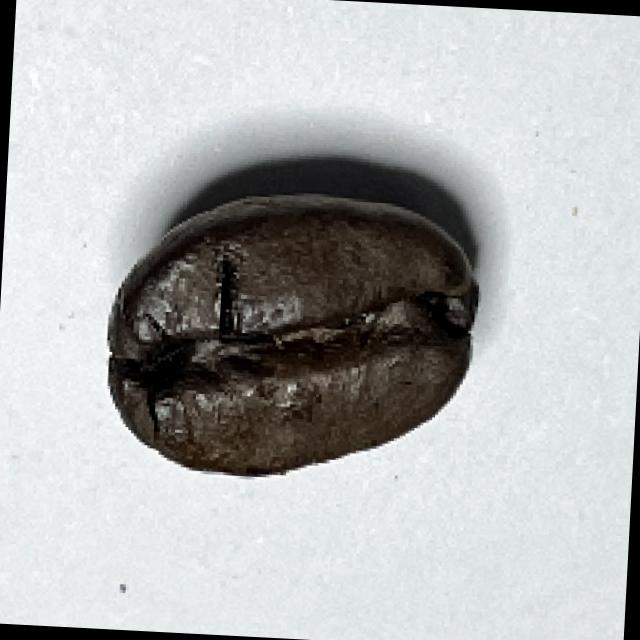bean: (95, 186, 483, 489)
